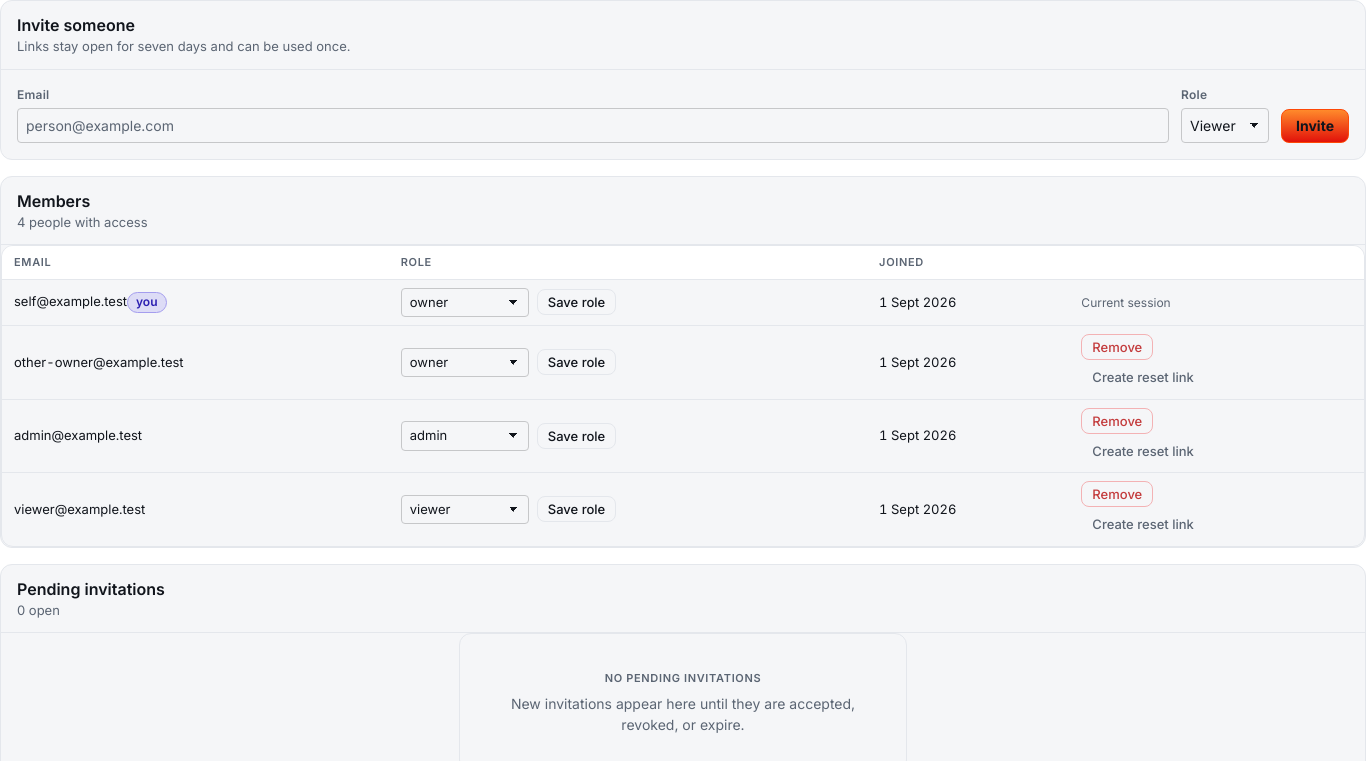
Test: members screen one-time links › shows the new link once with its status, note and the secondary email button
The width and height of the screenshot is (1366, 761).
Type "person@example.test" into the field labelled "Email" at (593, 125), box [17,108,1169,142]
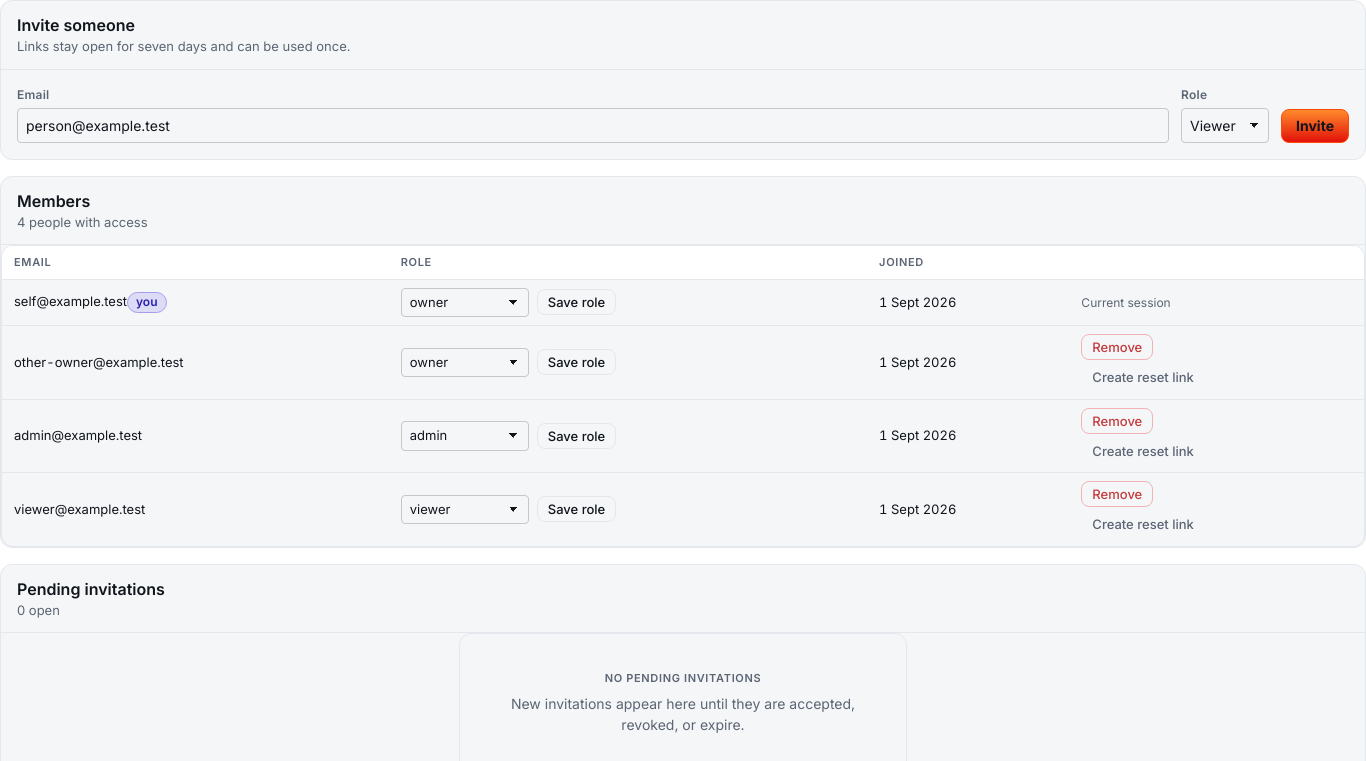
Click the button with test id "create-invite" at (1315, 126), box [1281,109,1349,142]
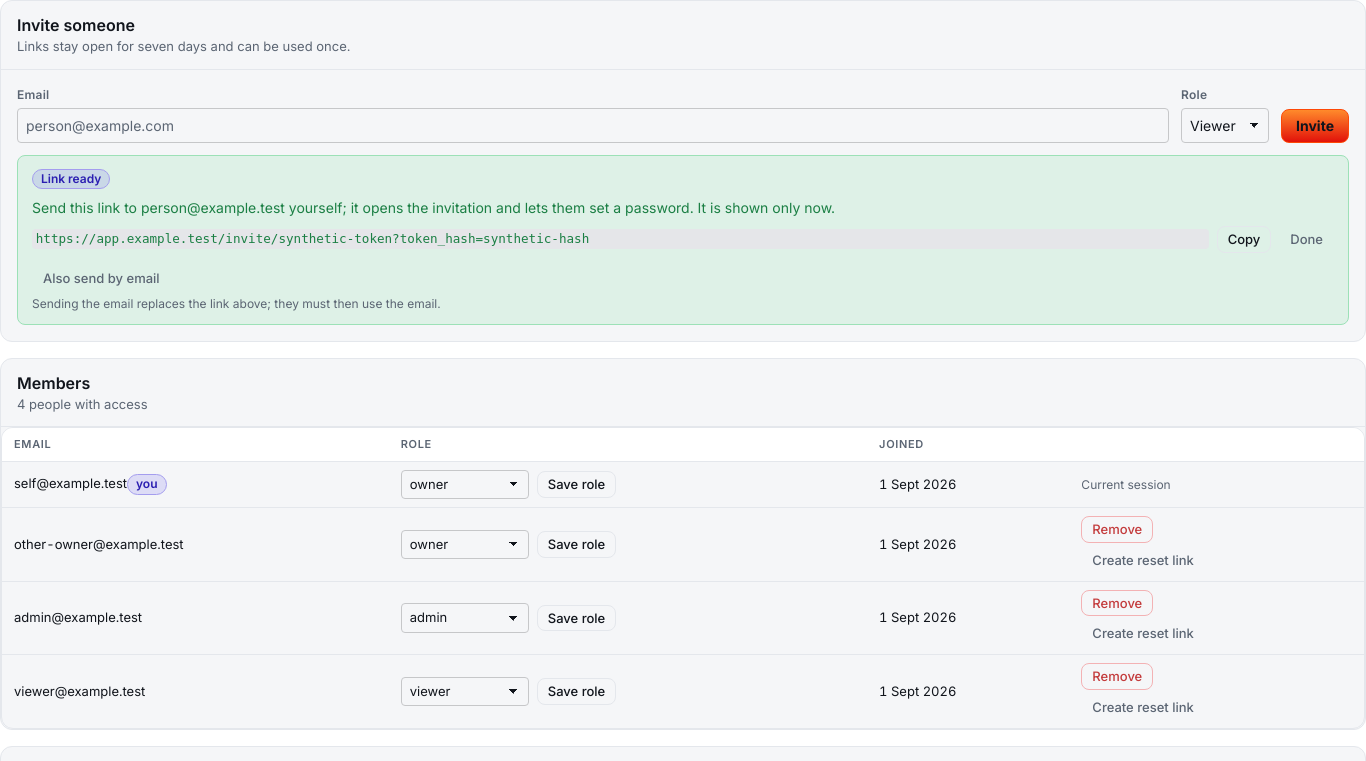
expect the number of elements with test id "invite-url" is 1: met, box [32,229,1209,249]
expect the text with test id "invite-url" reads "https://app.example.test/invite/synthetic-token?token_hash=synthetic-hash": met, box [36,231,589,246]
expect the text with test id "invite-delivery-status" reads "Link ready": met, box [41,170,101,186]
Click the button with test id "invite-send-email" at (101, 278), box [32,264,171,291]
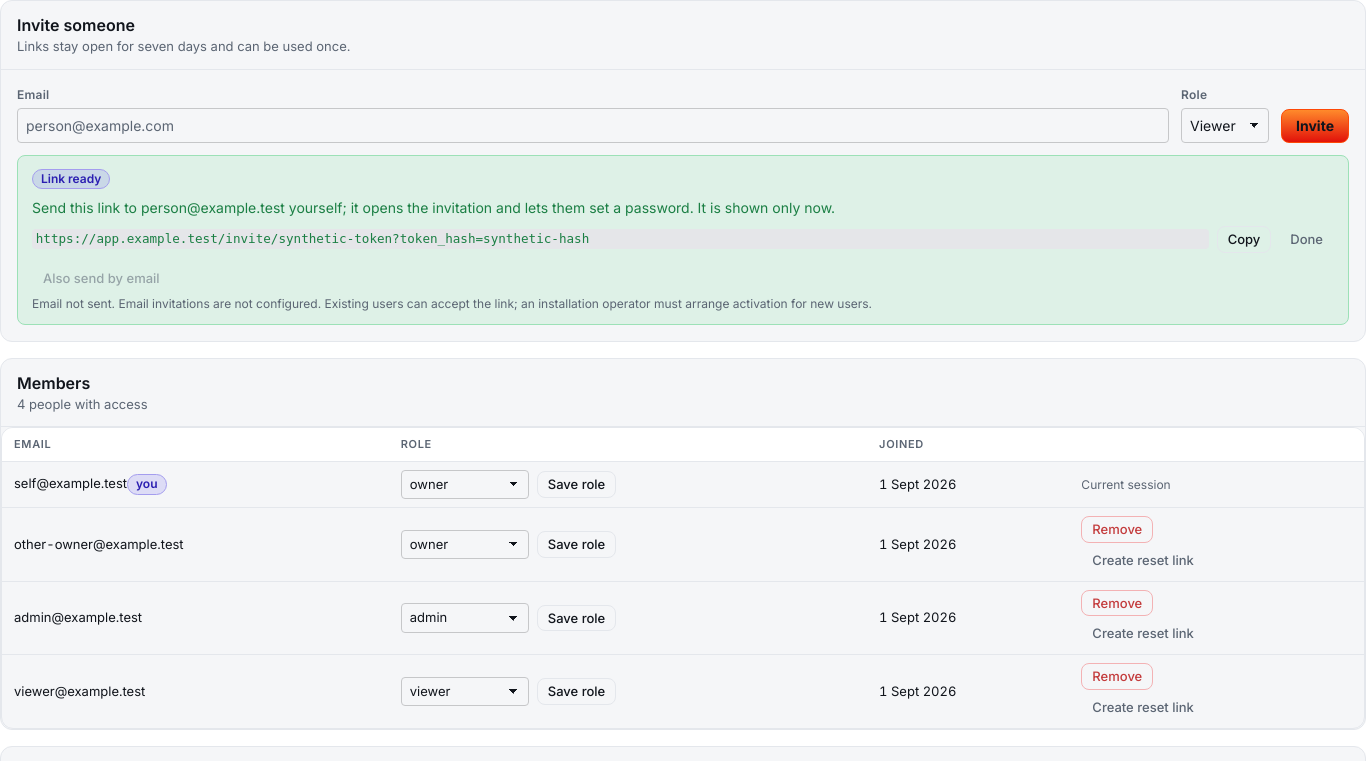
expect the number of messages with test id "invite-email-status" is 1: met, box [32,296,872,311]
expect the message with test id "invite-email-status" shows "Email not sent. Email invitations are not configured. Existing users can accept the link; an installation operator must arrange activation for new users.": met, box [32,296,872,311]
Click the button "Done" at (1307, 239), box [1279,226,1334,253]
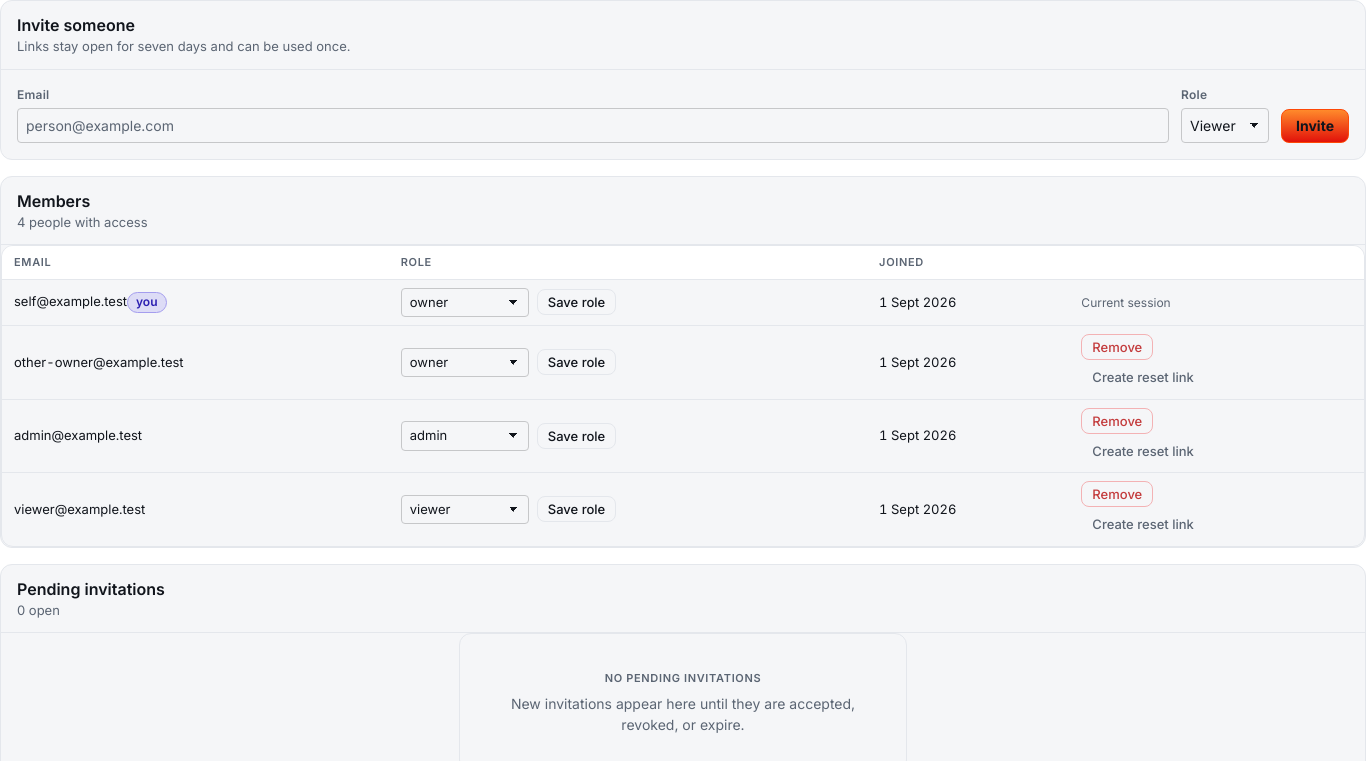
expect no elements with test id "invite-url" are shown: met
